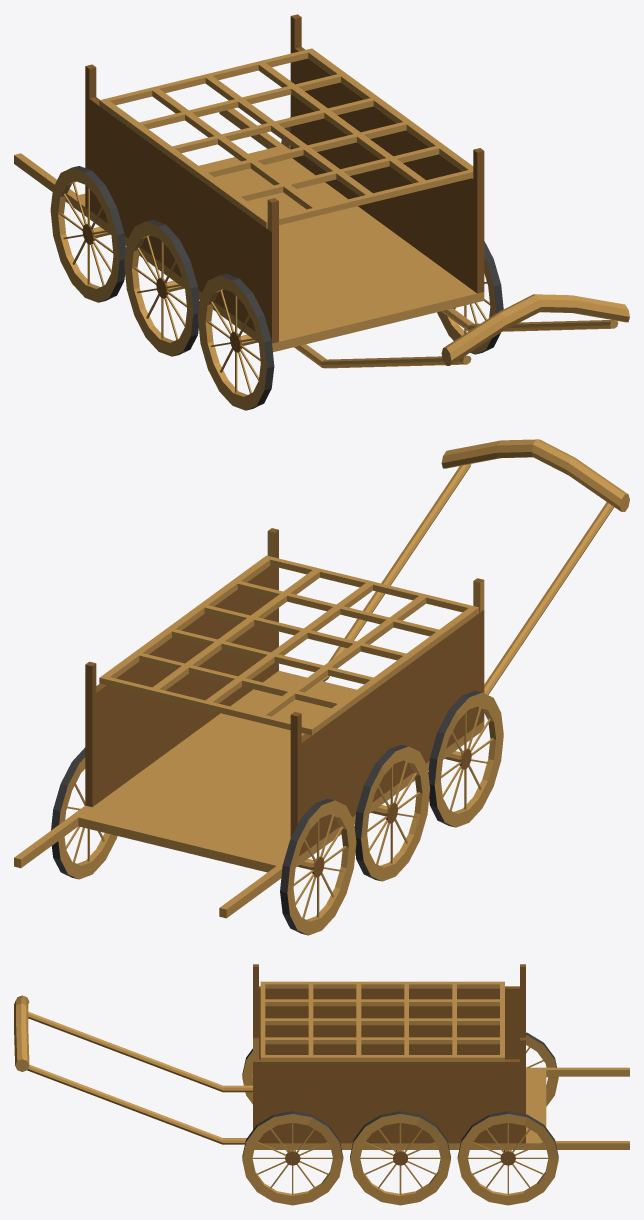
Rendered from HeavyExtra.fbx.
The picture shows the model from 3 angles, top to bottom: view 1: azimuth 30°, elevation 25°; view 2: azimuth 150°, elevation 25°; view 3: azimuth 270°, elevation 25°; orthographic projection. The views are drawn at different scales.
Visible parts, largest first — view 1: Heavy; view 2: Heavy; view 3: Heavy.
Part boxes in pixels (x1,y1,x2,y2): Heavy: (14,14,629,410); Heavy: (14,439,629,935); Heavy: (14,964,629,1205).
Bounding box in the file's own units: 1.67 × 1.48 × 5.15.
